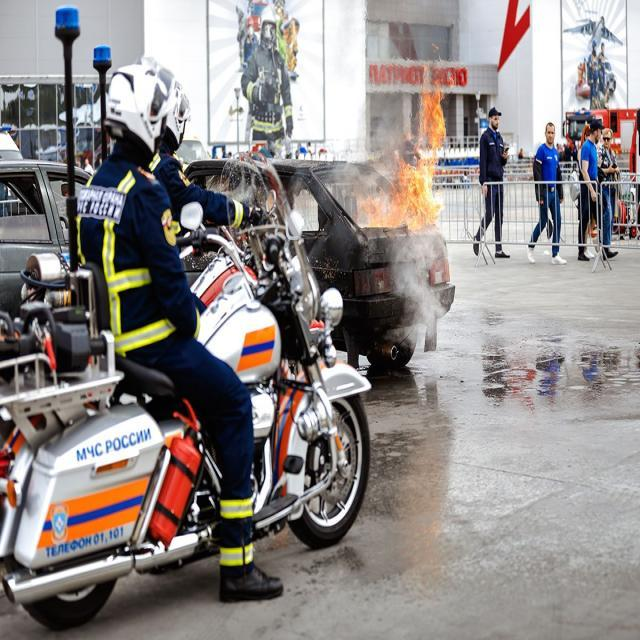Fire: (367, 55, 450, 226)
Smoke: (386, 236, 446, 336)
